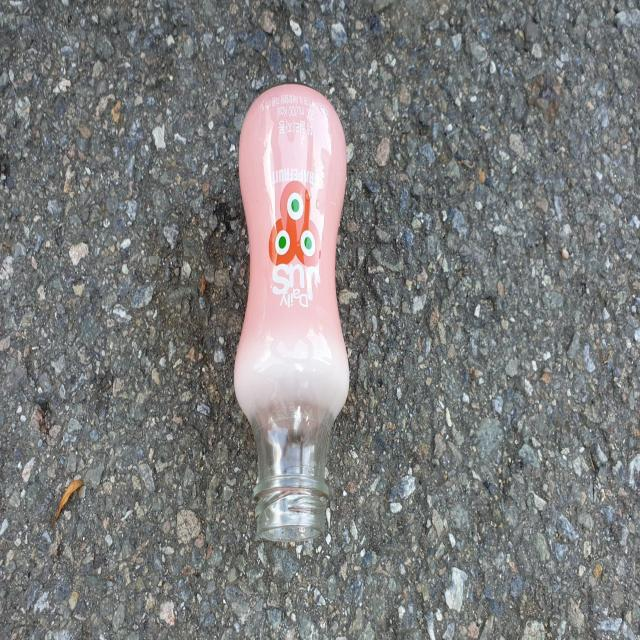glass: (234, 84, 349, 542)
